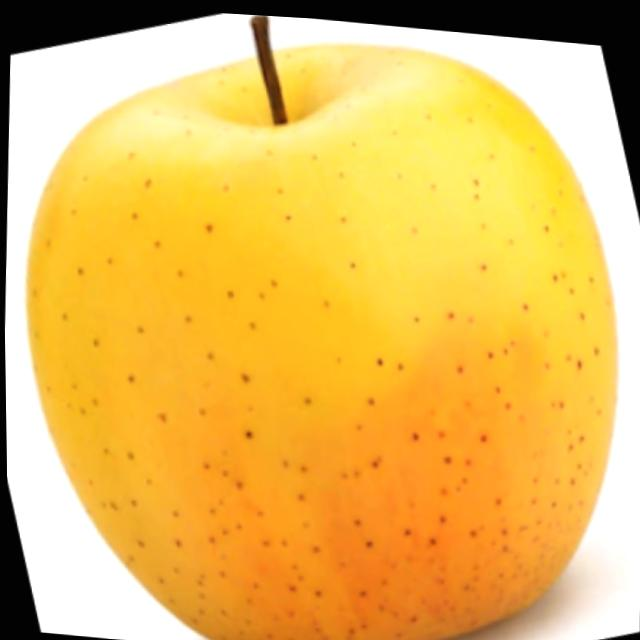organik: (22, 1, 640, 640)
